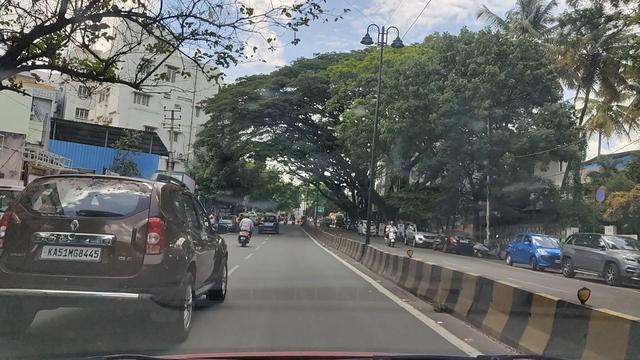LMV: (0, 171, 234, 347)
